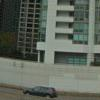Car: (16, 79, 64, 100)
